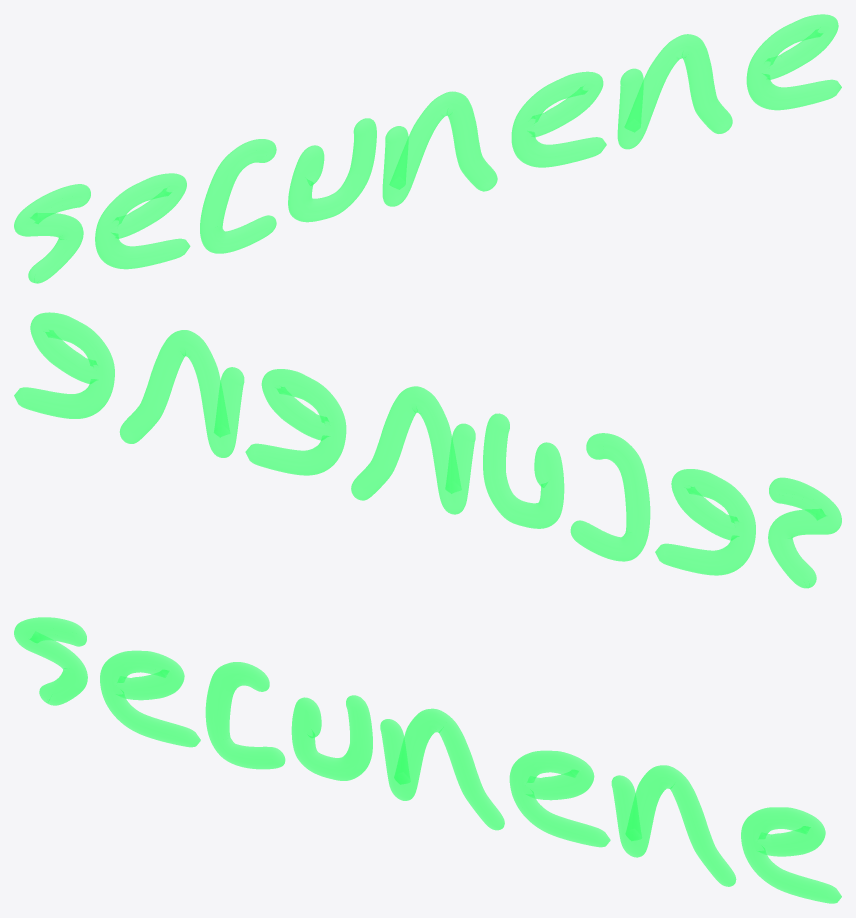
Rendered from secu2.glb.
The picture shows the model from 3 angles, top to bottom: view 1: azimuth 30°, elevation 25°; view 2: azimuth 150°, elevation 25°; view 3: azimuth 330°, elevation 25°; orthographic projection.
Visible parts, largest first — view 1: Text; view 2: Text; view 3: Text.
Boxes of the visible parts, <box> form: Text: <box>14,14,841,283</box>; Text: <box>14,312,841,588</box>; Text: <box>14,617,841,903</box>.
Size of the model in its own units: 0.8312 by 0.113 by 0.0256.
